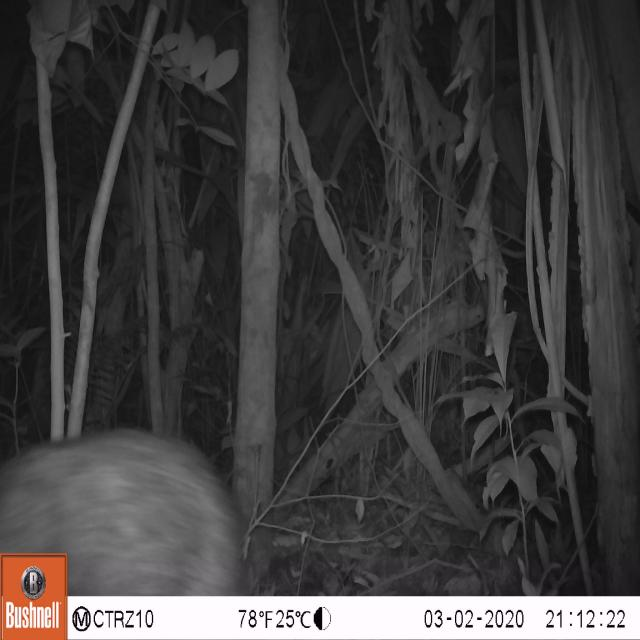Collared Peccary: (0, 418, 267, 596)
